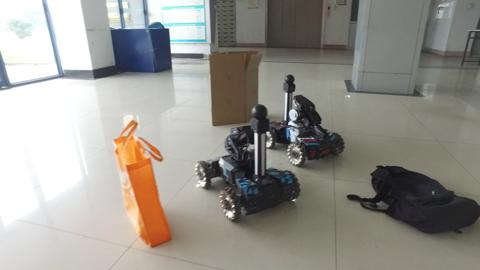bag: (356, 157, 476, 238), (111, 108, 167, 246)
box: (207, 48, 259, 122)
chariot: (198, 106, 301, 220), (264, 72, 342, 165)
